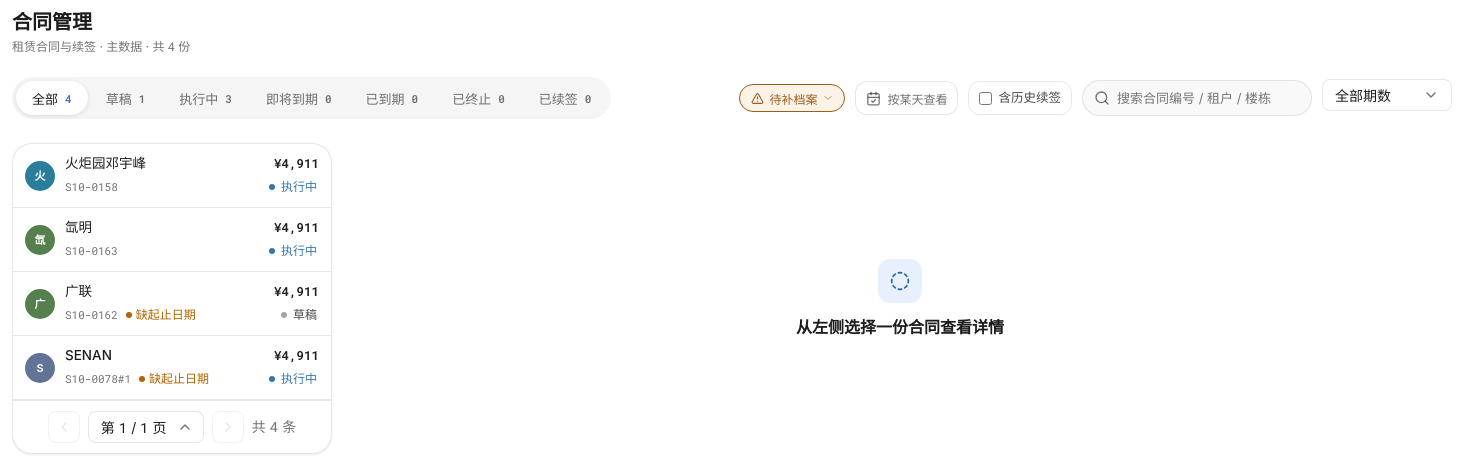
Test: 合同管理 · 机械替换(T13) › ❗搜不到:列表区是 FPEmpty「没有匹配的合同」
This screenshot has width=1464, height=472.
In the field with placeholder "搜索合同编号 / 租户 / 楼栋": (1197, 98) [1082,80,1312,116], type "不存在的合同"
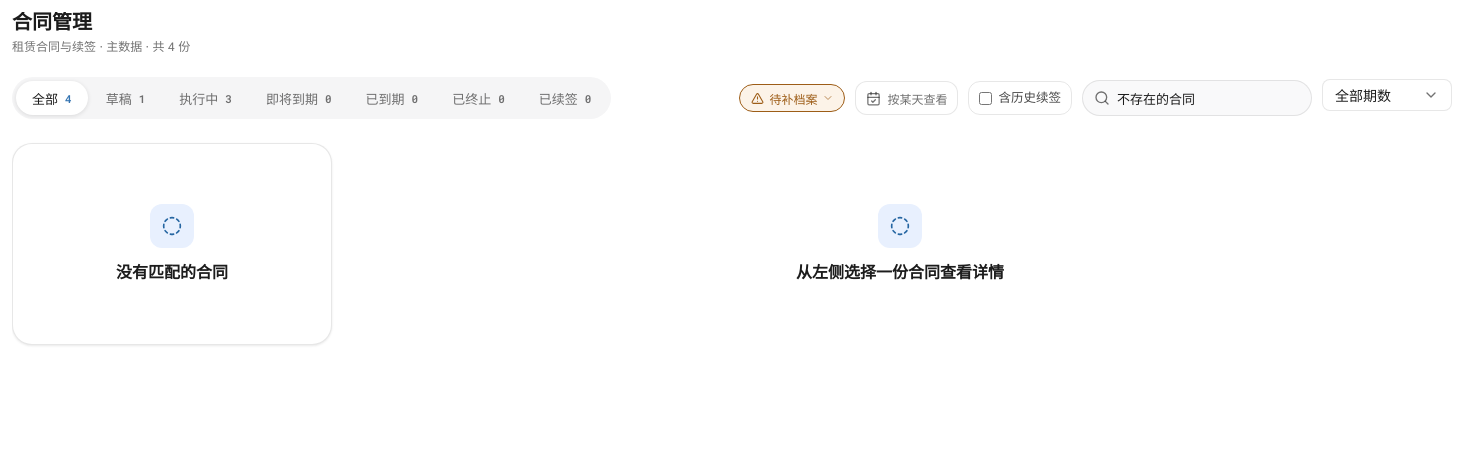
Expected: the element with class "fp-empty" showing "没有匹配的合同" is shown, [116,204,228,282]
Expected: the element with class "fp-empty" reads "没有匹配的合同", [116,262,228,282]
